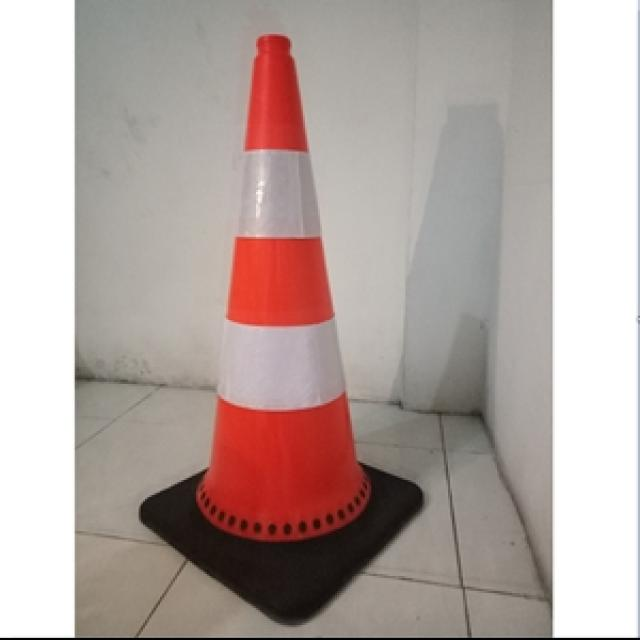cone: (137, 32, 420, 623)
